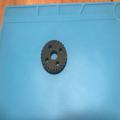gear: (40, 39, 67, 75)
